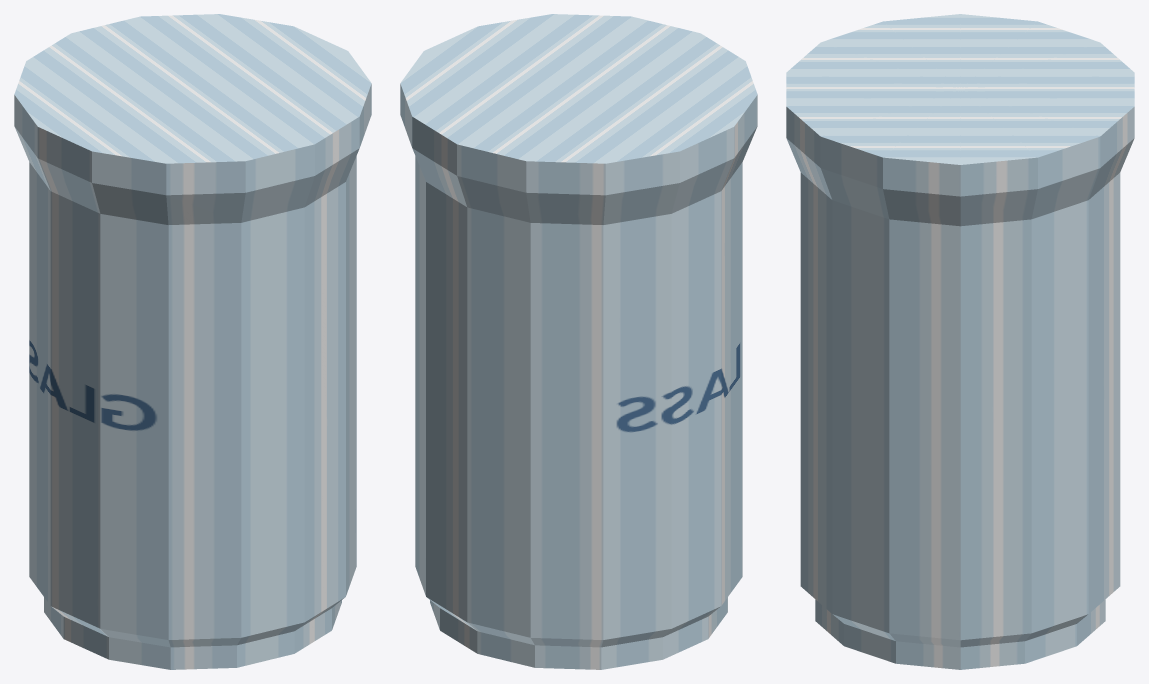
Rendered from glass.obj.
3 renders of one model, left to right at view 1: azimuth 30°, elevation 25°; view 2: azimuth 150°, elevation 25°; view 3: azimuth 270°, elevation 25°, orthographic.
Visible parts, largest first — view 1: glass; view 2: glass; view 3: glass.
Boxes of the visible parts, x1,y1,x2,y2 form: glass: (14, 14, 371, 669); glass: (400, 14, 757, 669); glass: (786, 14, 1134, 669).
Size of the model in its own units: 0.072 by 0.115 by 0.0702.
1 material, 1 textured.
